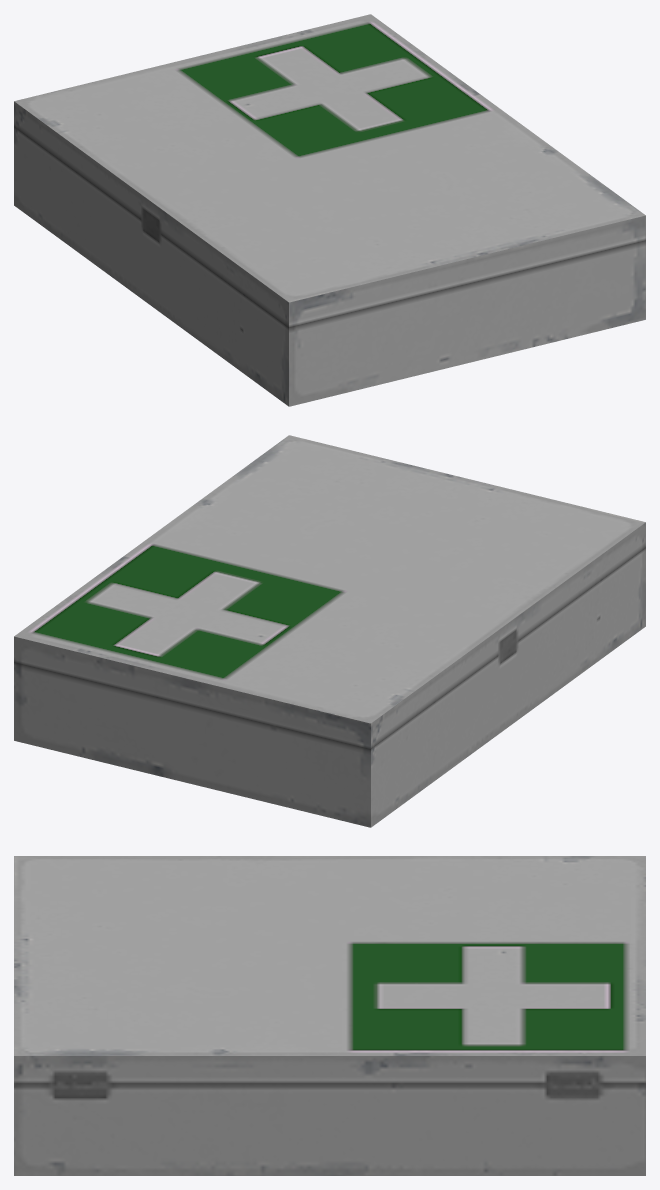
File: HH_First_Aid_Kit.fbx
The picture shows the model from 3 angles, top to bottom: view 1: azimuth 30°, elevation 25°; view 2: azimuth 150°, elevation 25°; view 3: azimuth 270°, elevation 25°; orthographic projection. The views are drawn at different scales.
Visible parts, largest first — view 1: HH_First_Aid_Kit; view 2: HH_First_Aid_Kit; view 3: HH_First_Aid_Kit.
Boxes of the visible parts, x1=… form: HH_First_Aid_Kit: x1=14, y1=14, x2=645, y2=406; HH_First_Aid_Kit: x1=14, y1=435, x2=645, y2=827; HH_First_Aid_Kit: x1=14, y1=856, x2=645, y2=1175.
Size of the model in its own units: 42.09 by 11.75 by 56.18.
